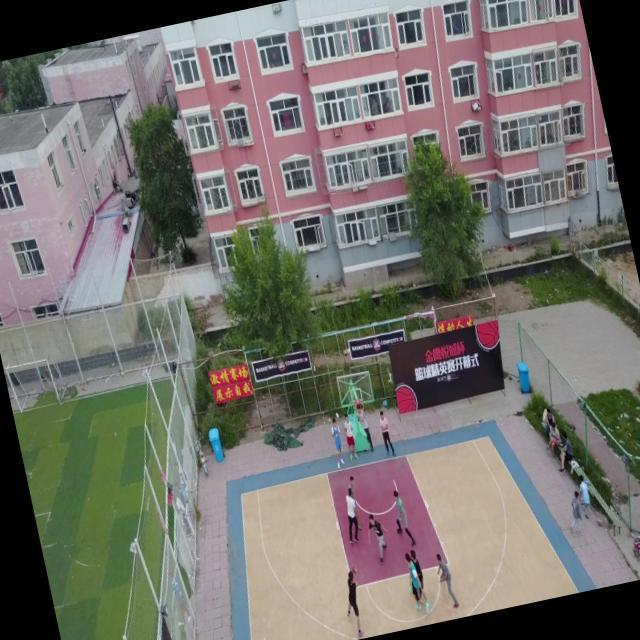person: (336, 562, 372, 638), (387, 486, 419, 550), (362, 510, 395, 568), (403, 550, 432, 616), (432, 549, 461, 611), (338, 486, 364, 544), (326, 416, 349, 469), (352, 400, 374, 454), (376, 408, 398, 458), (338, 411, 359, 462)
